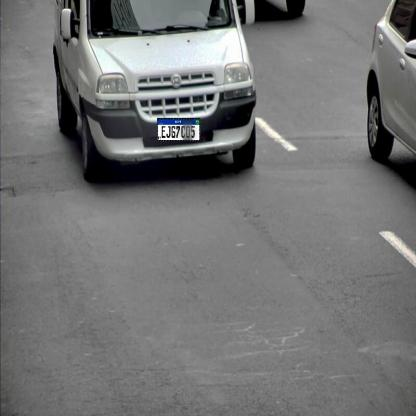PlacaM: (157, 118, 200, 141)
